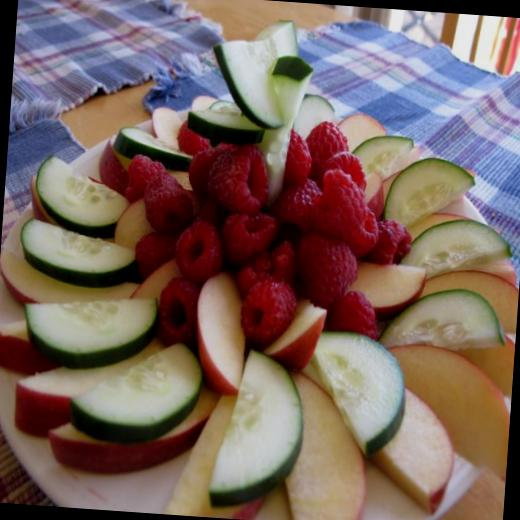Apple: (0, 79, 520, 520), (392, 358, 512, 486)
